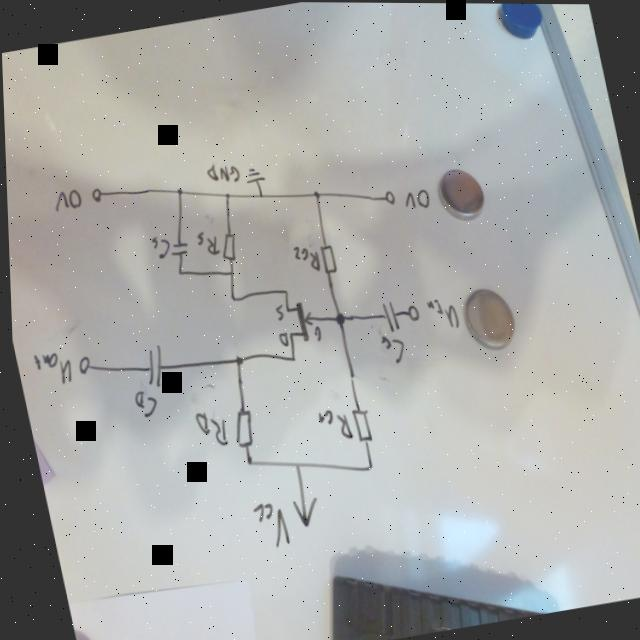capacitor: (137, 344, 165, 389), (374, 298, 400, 333), (166, 237, 188, 259)
ground: (241, 163, 264, 186)
junction: (331, 309, 343, 326), (229, 352, 242, 367), (254, 188, 265, 200), (241, 454, 251, 467), (310, 188, 320, 199), (288, 458, 298, 469), (174, 185, 182, 196), (279, 287, 287, 297), (286, 353, 294, 363), (362, 462, 370, 472), (227, 294, 234, 304), (225, 268, 232, 277), (174, 268, 181, 277), (222, 191, 229, 200)
resistor: (226, 408, 254, 449), (346, 404, 370, 444), (215, 231, 238, 263), (316, 243, 336, 275)
source: (286, 494, 318, 528)
terminal: (401, 302, 419, 324), (72, 354, 90, 375), (86, 185, 104, 204), (380, 187, 395, 207)
text: (247, 498, 286, 551), (30, 348, 72, 388), (190, 407, 227, 450), (312, 404, 350, 443), (422, 293, 458, 333), (203, 158, 240, 186), (376, 331, 405, 365), (290, 242, 319, 274), (129, 388, 157, 419), (50, 186, 82, 213), (400, 187, 430, 211), (194, 229, 218, 258), (148, 233, 171, 260), (271, 303, 283, 321), (275, 331, 287, 348), (309, 324, 320, 342)
transistor: (279, 298, 315, 344)
